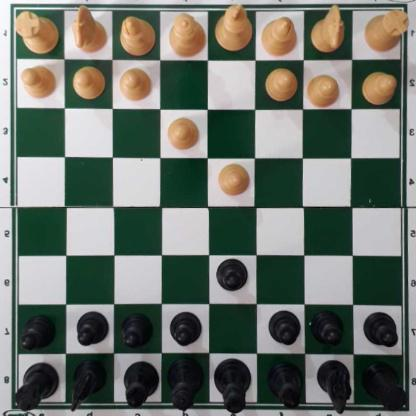black-bishop: (122, 363, 159, 411), (266, 363, 303, 411)
black-king: (214, 360, 251, 413)
black-knight: (70, 359, 105, 414), (317, 360, 350, 415)
black-pawn: (363, 311, 398, 349), (20, 317, 55, 352), (215, 260, 249, 296), (170, 312, 202, 349), (311, 312, 343, 349), (120, 315, 153, 350), (76, 312, 107, 349), (268, 311, 299, 345)
black-queen: (167, 359, 205, 411)
black-rook: (14, 363, 59, 415), (361, 363, 404, 411)
white-bishop: (261, 16, 296, 59), (119, 17, 154, 58)
white-king: (215, 4, 249, 54)
white-knight: (311, 5, 345, 56), (73, 6, 106, 55)
white-pawn: (18, 66, 57, 100), (361, 72, 397, 106), (166, 118, 200, 153), (118, 69, 152, 104), (216, 165, 250, 198), (71, 68, 104, 101), (263, 70, 296, 103), (307, 74, 339, 108)
white-queen: (165, 15, 208, 59)
white-rook: (363, 10, 409, 53), (13, 12, 59, 55)
